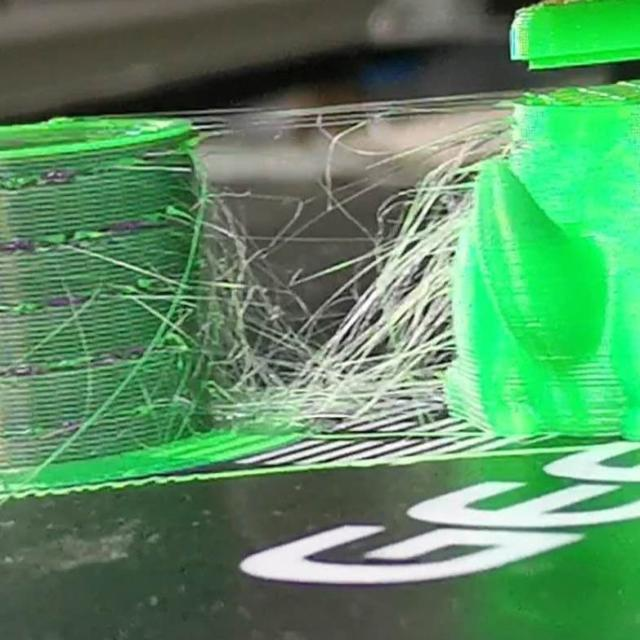Stringing: (156, 109, 487, 429)
